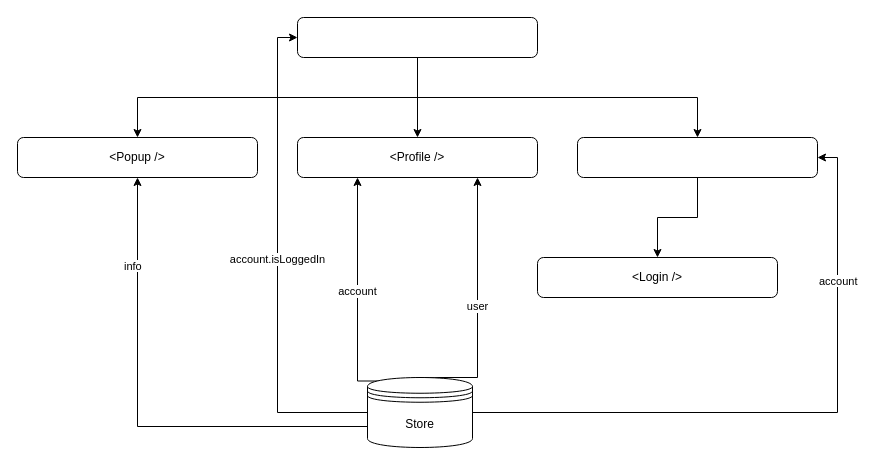
Image size: 876x465. Some labels were removed from this diagram. Here are the shapes that lost their labels. From the top down, the centre of each, then its label:
At point (417, 37): "<App />".
At point (697, 157): "<LandingPage />".
